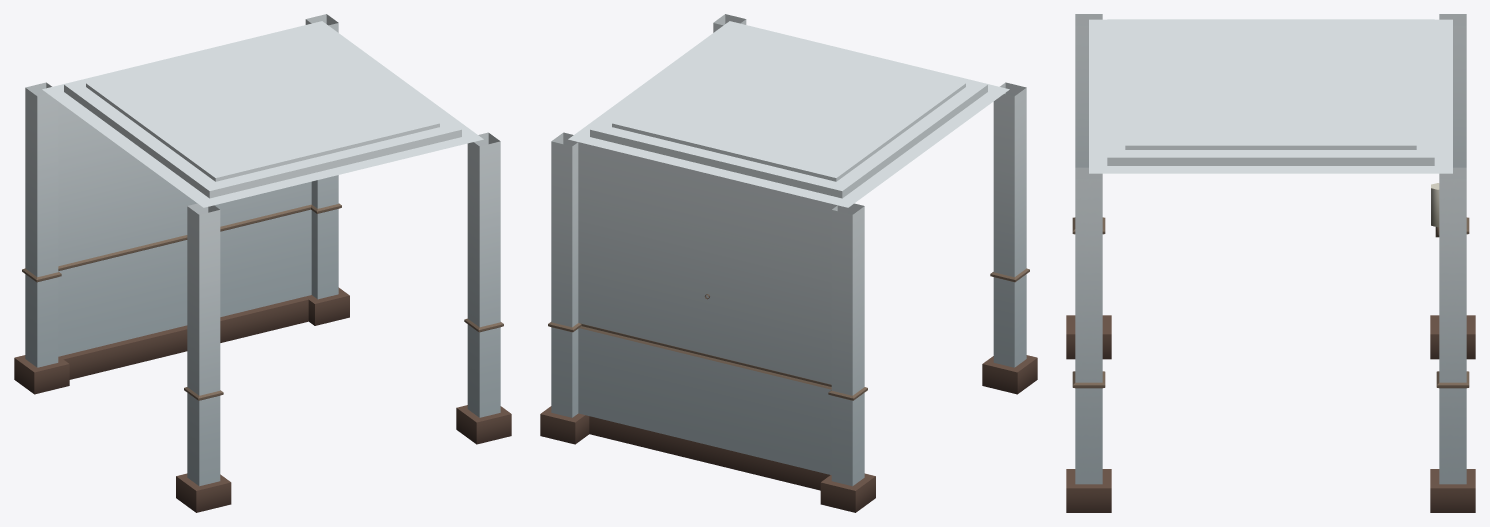
File: T_Junction.fbx
3 renders of one model, left to right at view 1: azimuth 30°, elevation 25°; view 2: azimuth 150°, elevation 25°; view 3: azimuth 270°, elevation 25°, orthographic. The views are drawn at different scales.
Visible parts, largest first — view 1: T_Junction; view 2: T_Junction; view 3: T_Junction.
Boxes of the visible parts, x1=… form: T_Junction: x1=14, y1=14, x2=511, y2=512; T_Junction: x1=540, y1=14, x2=1037, y2=512; T_Junction: x1=1066, y1=14, x2=1475, y2=512.
Bounding box in the file's own units: 338 × 311 × 338.
